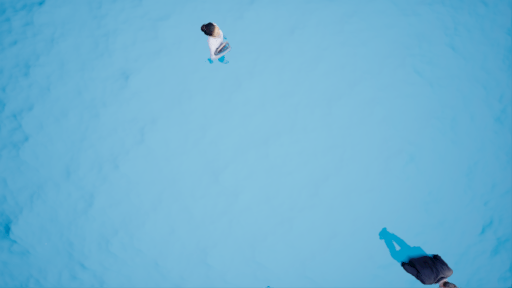person: (374, 227, 459, 288), (197, 14, 235, 68)
